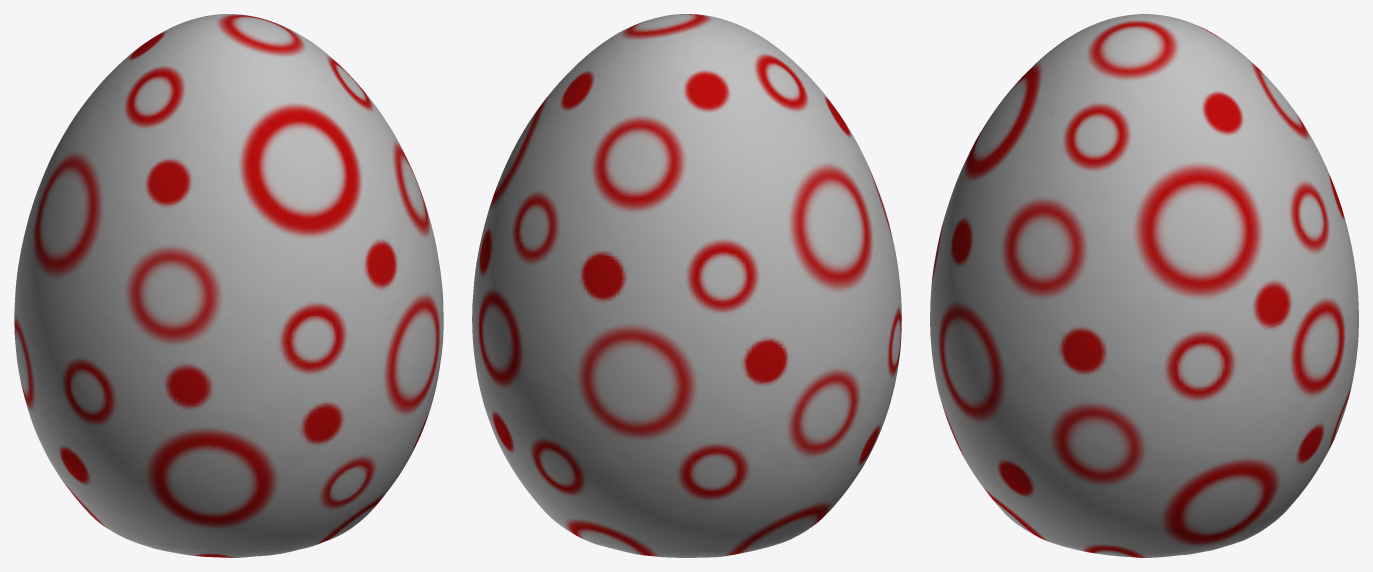
Rendered from egg.glb.
3 renders of one model, left to right at view 1: azimuth 30°, elevation 25°; view 2: azimuth 150°, elevation 25°; view 3: azimuth 270°, elevation 25°, orthographic.
Parts seen in each view (by area): view 1: Geode; view 2: Geode; view 3: Geode.
Part boxes in pixels (bbox=[...]): Geode: bbox=[14, 14, 443, 557]; Geode: bbox=[472, 14, 901, 557]; Geode: bbox=[930, 14, 1358, 557].
Bounding box in the file's own units: 0.0484 × 0.0593 × 0.0484.
